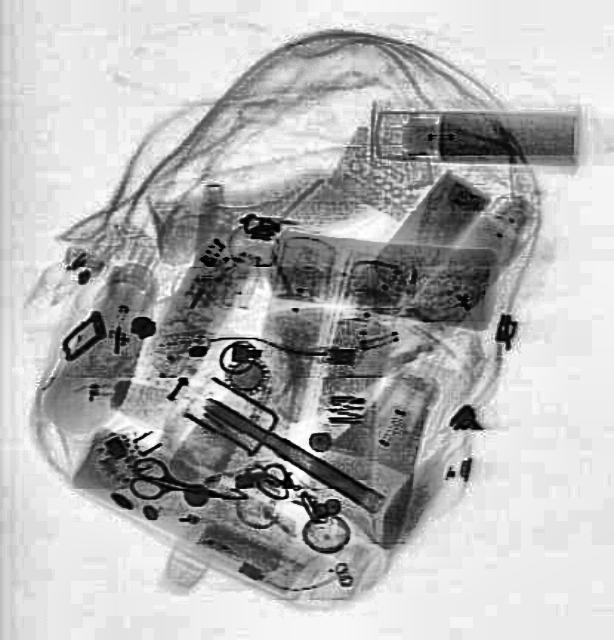Scissors: (124, 451, 234, 517)
